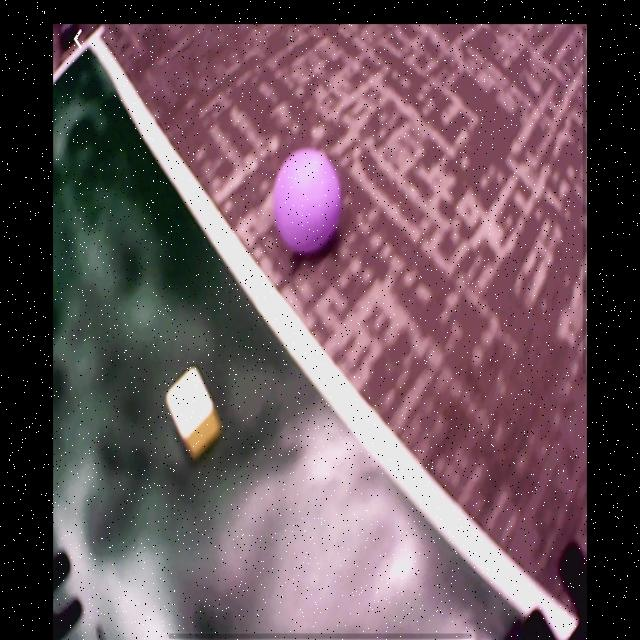ball: (273, 152, 340, 258)
